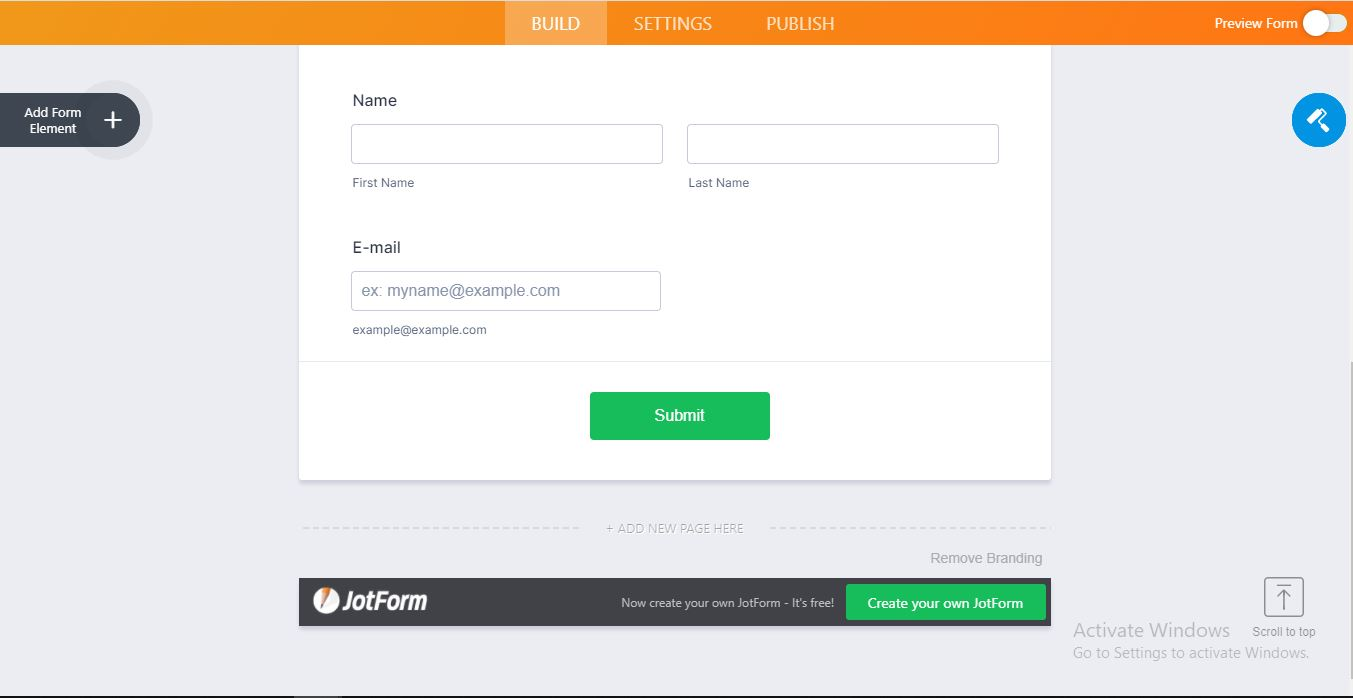Button: (590, 385, 773, 443), (843, 584, 1045, 621), (1292, 91, 1348, 153), (85, 93, 138, 153)
Menu Bar: (505, 0, 857, 47)
Text Field: (352, 264, 665, 317), (352, 120, 665, 166), (683, 122, 1000, 164)
